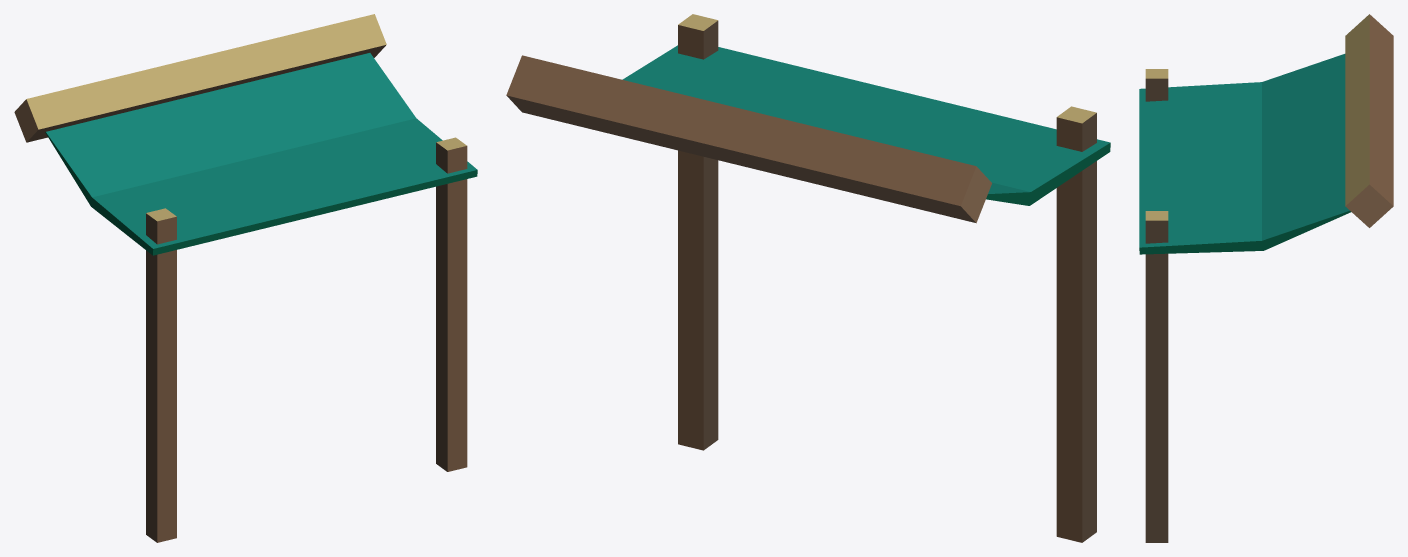
The model's file is TB_D_Bd_Canopy_WLeg_G.FBX.
The picture shows the model from 3 angles, left to right: view 1: azimuth 30°, elevation 25°; view 2: azimuth 150°, elevation 25°; view 3: azimuth 270°, elevation 25°; orthographic projection. The views are drawn at different scales.
Parts seen in each view (by area): view 1: TB_D_Bd_Canopy_WLeg_G; view 2: TB_D_Bd_Canopy_WLeg_G; view 3: TB_D_Bd_Canopy_WLeg_G.
Part boxes in pixels (x1,y1,x2,y2): TB_D_Bd_Canopy_WLeg_G: (14,14,477,542); TB_D_Bd_Canopy_WLeg_G: (506,14,1110,542); TB_D_Bd_Canopy_WLeg_G: (1139,14,1393,542).
Bounding box in the file's own units: 2.5 × 2.52 × 1.58.
